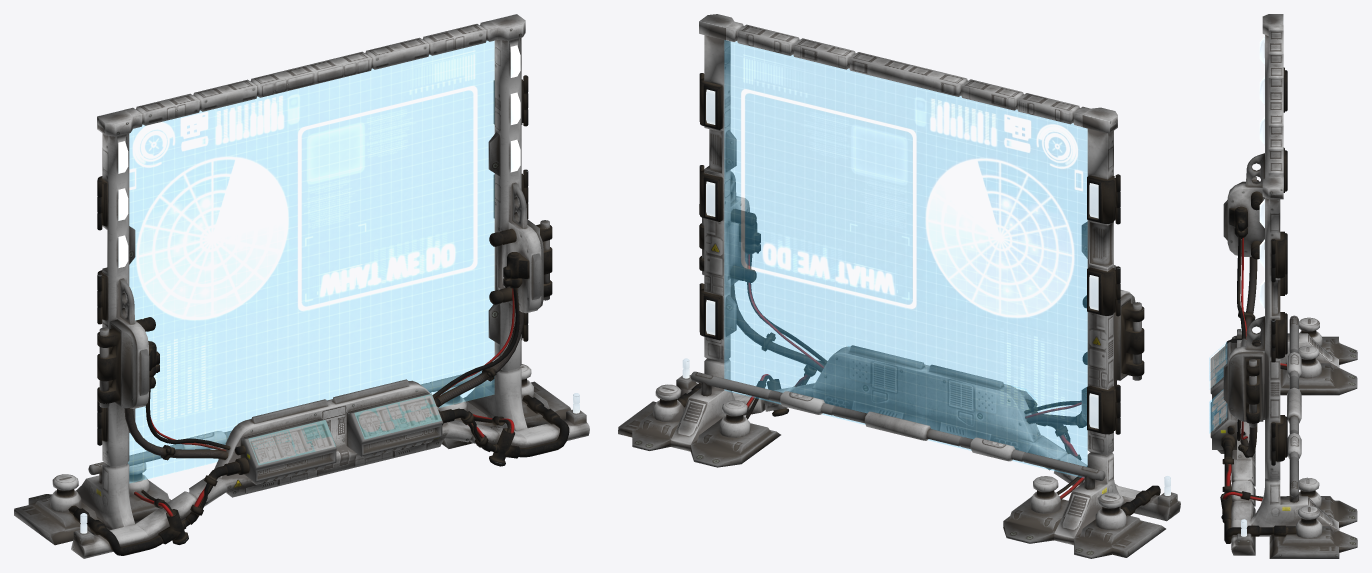
3 views of the same model, side by side, from view 1: azimuth 30°, elevation 25°; view 2: azimuth 150°, elevation 25°; view 3: azimuth 270°, elevation 25° (orthographic). The views are drawn at different scales.
Visible parts, largest first — view 1: Obj_TT_tube.026, bakeObject.044_low.002; view 2: Obj_TT_tube.026, bakeObject.044_low.002; view 3: bakeObject.044_low.002, Obj_TT_tube.026.
Part boxes in pixels (<box>): Obj_TT_tube.026: <box>128,41,494,482</box>; bakeObject.044_low.002: <box>14,14,589,558</box>; Obj_TT_tube.026: <box>724,40,1087,477</box>; bakeObject.044_low.002: <box>618,14,1180,558</box>; bakeObject.044_low.002: <box>1210,14,1357,558</box>; Obj_TT_tube.026: <box>1209,342,1226,433</box>.
Bounding box in the file's own units: 2 × 1.53 × 0.5793.
2 materials, 2 textured.
